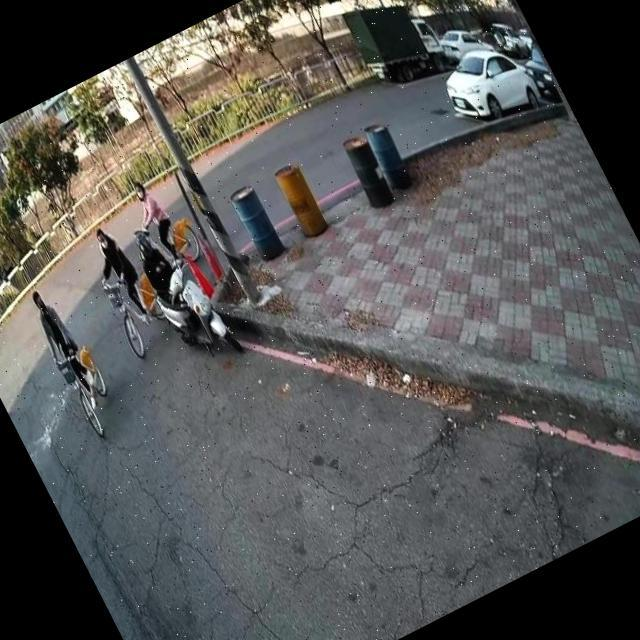person: (20, 282, 109, 416), (78, 216, 162, 334), (123, 217, 202, 332), (121, 172, 192, 273)
